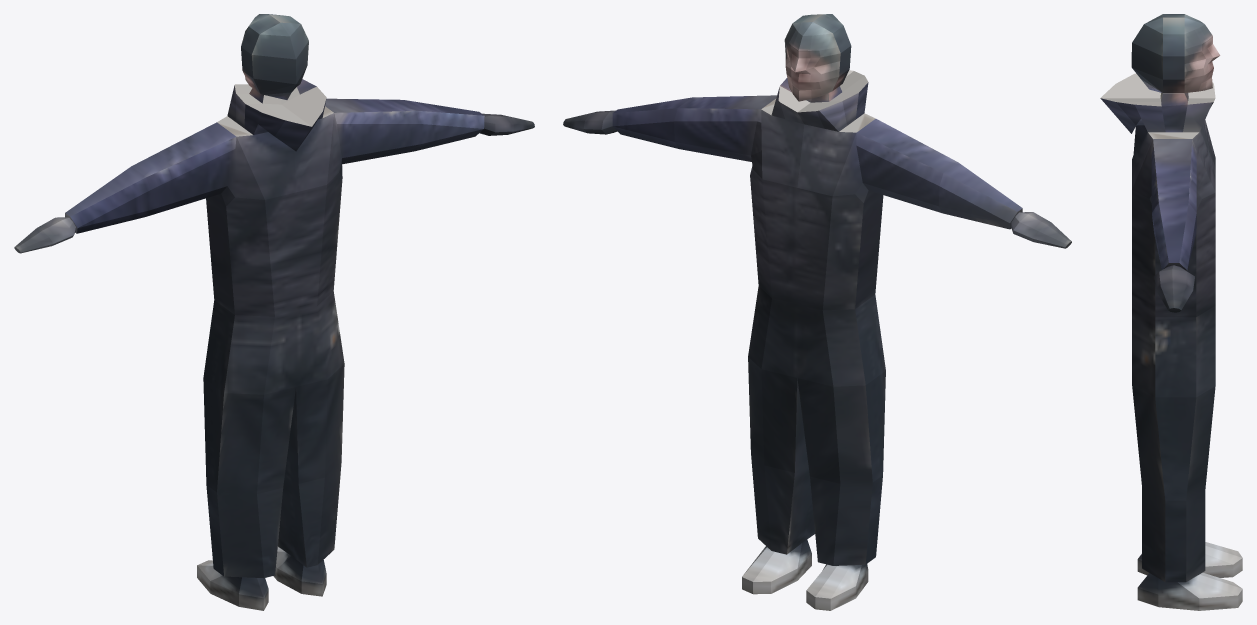
File: Remos.fbx
3 views of the same model, side by side, from view 1: azimuth 30°, elevation 25°; view 2: azimuth 150°, elevation 25°; view 3: azimuth 270°, elevation 25° (orthographic). The views are drawn at different scales.
Visible parts, largest first — view 1: Cube; view 2: Cube; view 3: Cube.
Boxes of the visible parts, x1,y1,x2,y2 form: Cube: [14, 14, 534, 610]; Cube: [563, 14, 1071, 610]; Cube: [1100, 14, 1242, 610].
Bounding box in the file's own units: 2.01 × 0.4843 × 2.13.
Materials: 1 (1 with a texture image).
